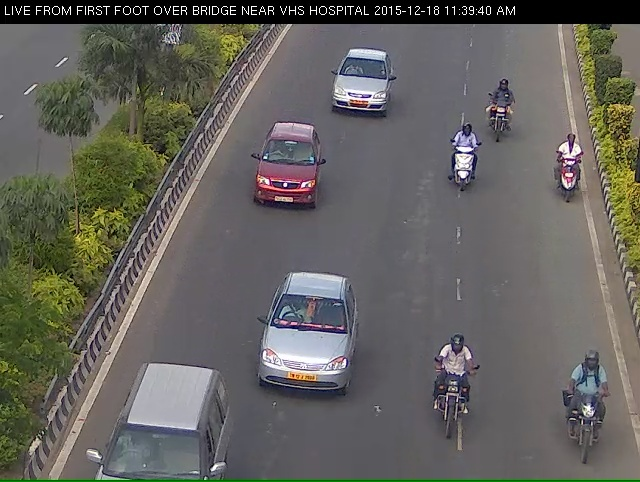Car: (242, 301, 356, 432), (110, 399, 215, 480), (252, 130, 321, 231), (323, 54, 389, 126)
Person: (428, 374, 475, 472), (568, 389, 610, 480), (446, 134, 480, 216), (552, 139, 583, 213), (485, 88, 517, 157)
